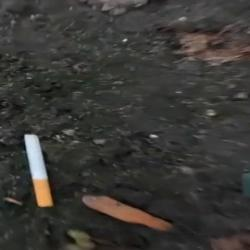Restaffald: (22, 134, 52, 207)
